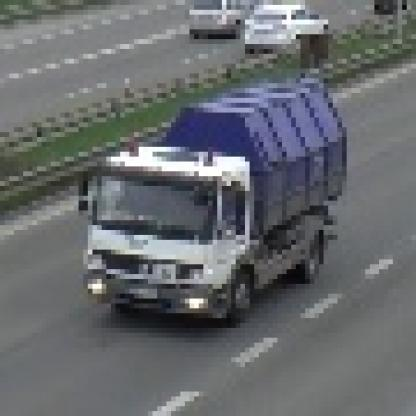truck: (80, 79, 348, 319)
